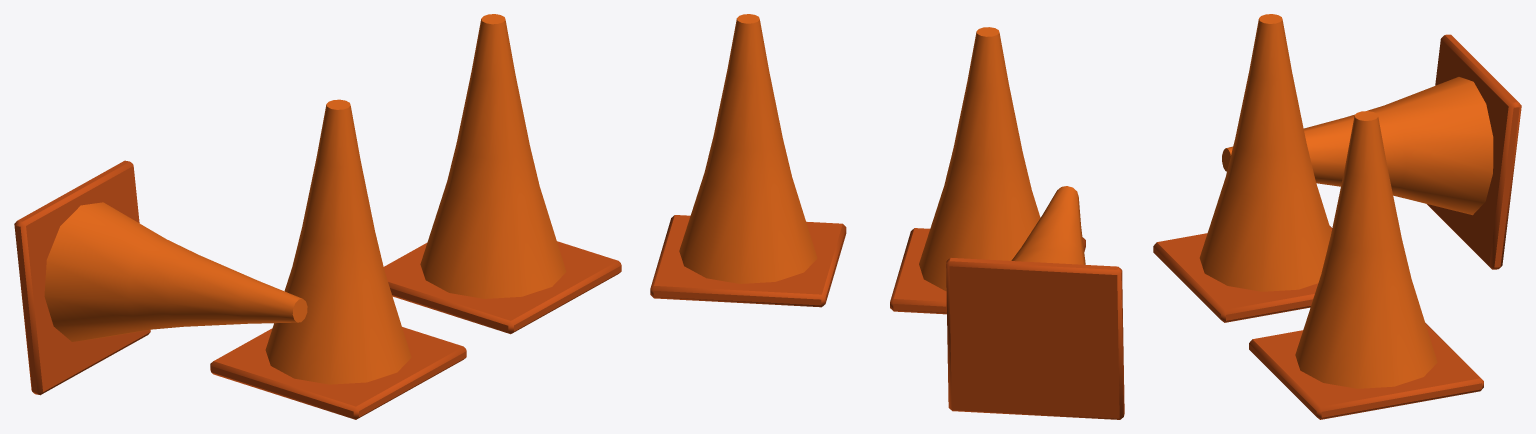
Rendered from cones_block.glb.
The picture shows the model from 3 angles, left to right: view 1: azimuth 30°, elevation 25°; view 2: azimuth 150°, elevation 25°; view 3: azimuth 270°, elevation 25°; orthographic projection. The views are drawn at different scales.
Visible parts, largest first — view 1: cones; view 2: cones; view 3: cones.
Boxes of the visible parts, <box> form: cones: <box>14,14,621,419</box>; cones: <box>650,14,1124,419</box>; cones: <box>1153,14,1521,419</box>.
Bounding box in the file's own units: 1.27 × 0.6645 × 0.7707.
